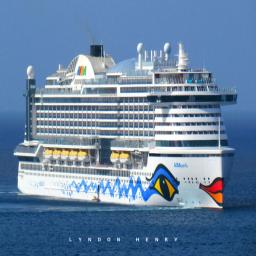cruises: (14, 33, 241, 217)
